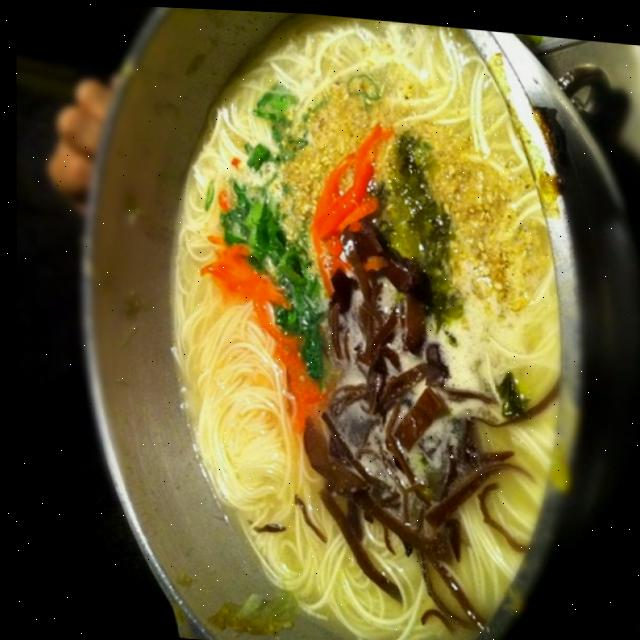面条主食: (51, 2, 640, 640)
